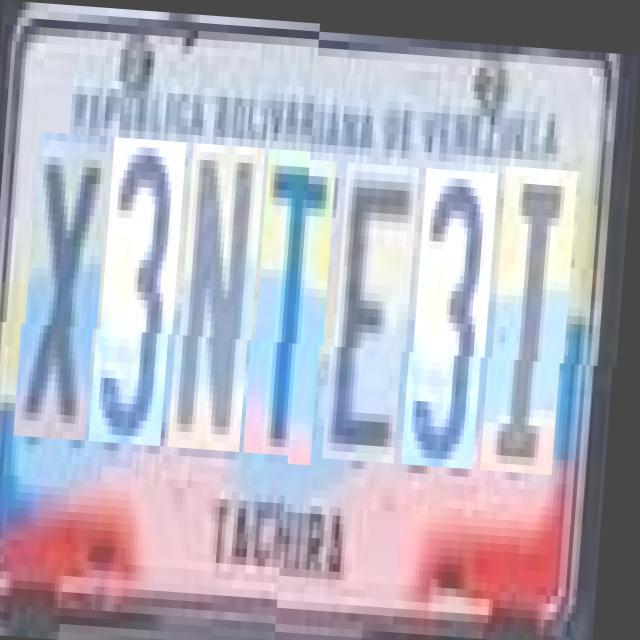3: (99, 144, 188, 452), (412, 162, 501, 462)
E: (332, 157, 422, 457)
I: (490, 158, 580, 466)
N: (178, 148, 266, 456)
T: (252, 152, 338, 460)
X: (23, 139, 112, 447)
